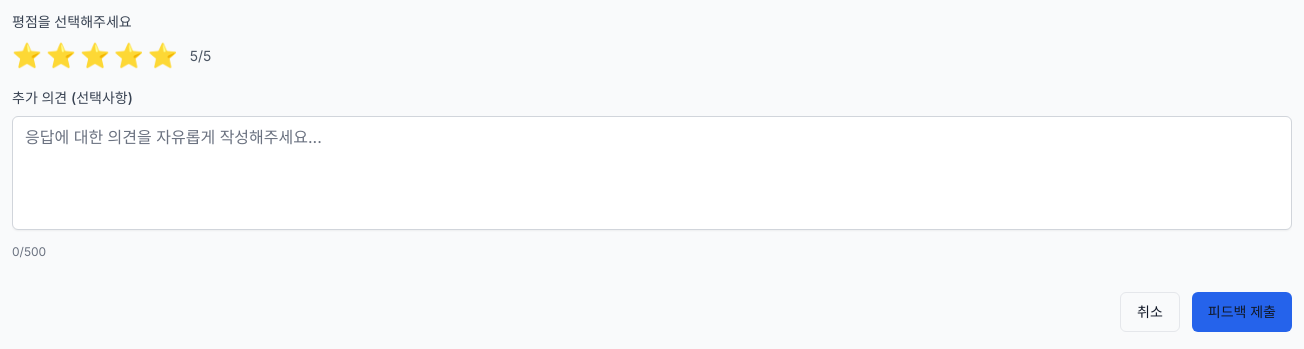
Test: FeedbackForm › updates comments when textarea is changed
Type "Test comment" into the text box labelled "추가 의견 (선택사항)" at (652, 173), box x1=12 y1=116 x2=1292 y2=230
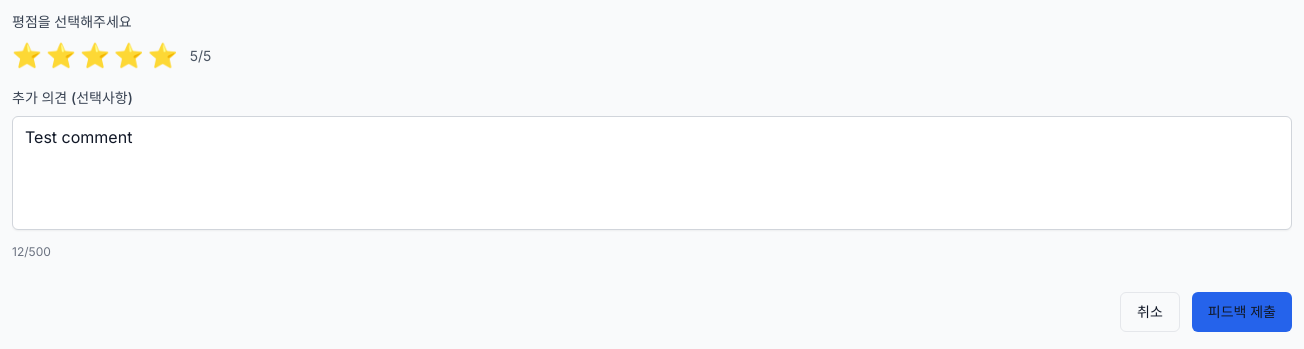
Check: the text "12/500" is shown, box x1=12 y1=244 x2=51 y2=260
